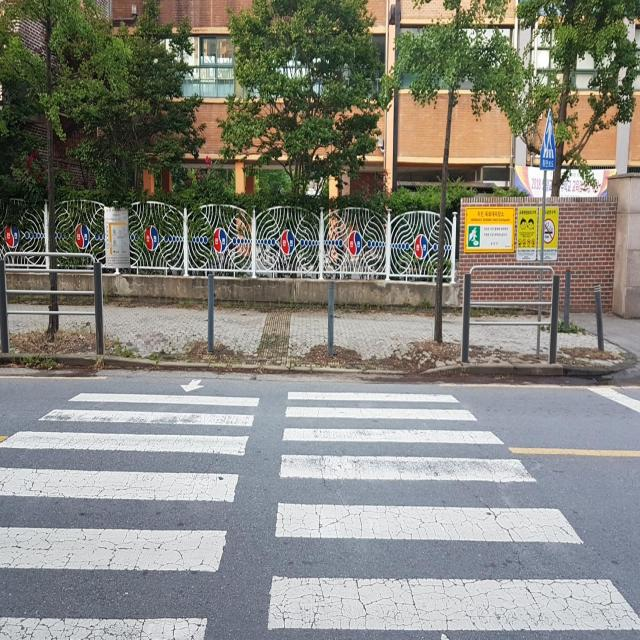횡단보도: (0, 375, 640, 640)
